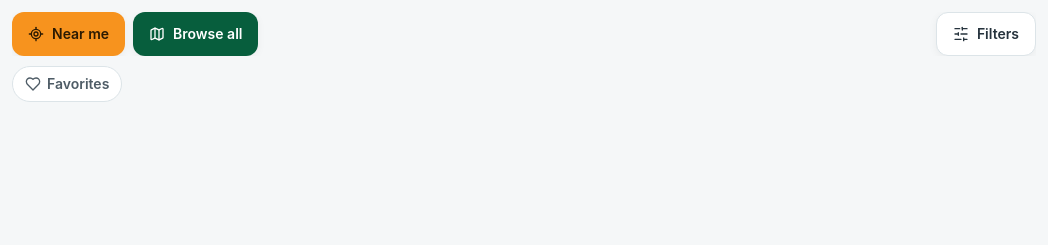
initial POSITION_UNAVAILABLE › shows a fatal panel with retry + search by city and stores no coordinates
What coordinates should you click on to do the following:
click the button "Near me"
I would click on:
 (69, 34)
Its box is left=12, top=12, right=125, bottom=56.
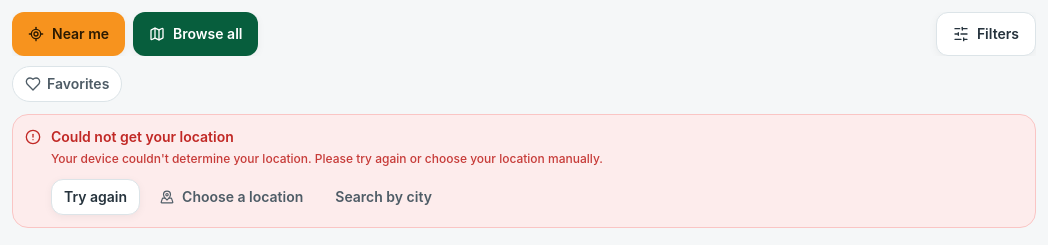
Now the text "couldn't determine your location" is shown, box left=51, top=151, right=603, bottom=166
Now the button "Try again" is shown, box left=51, top=178, right=140, bottom=214
Now the button "Search by city" is shown, box left=323, top=178, right=444, bottom=214
